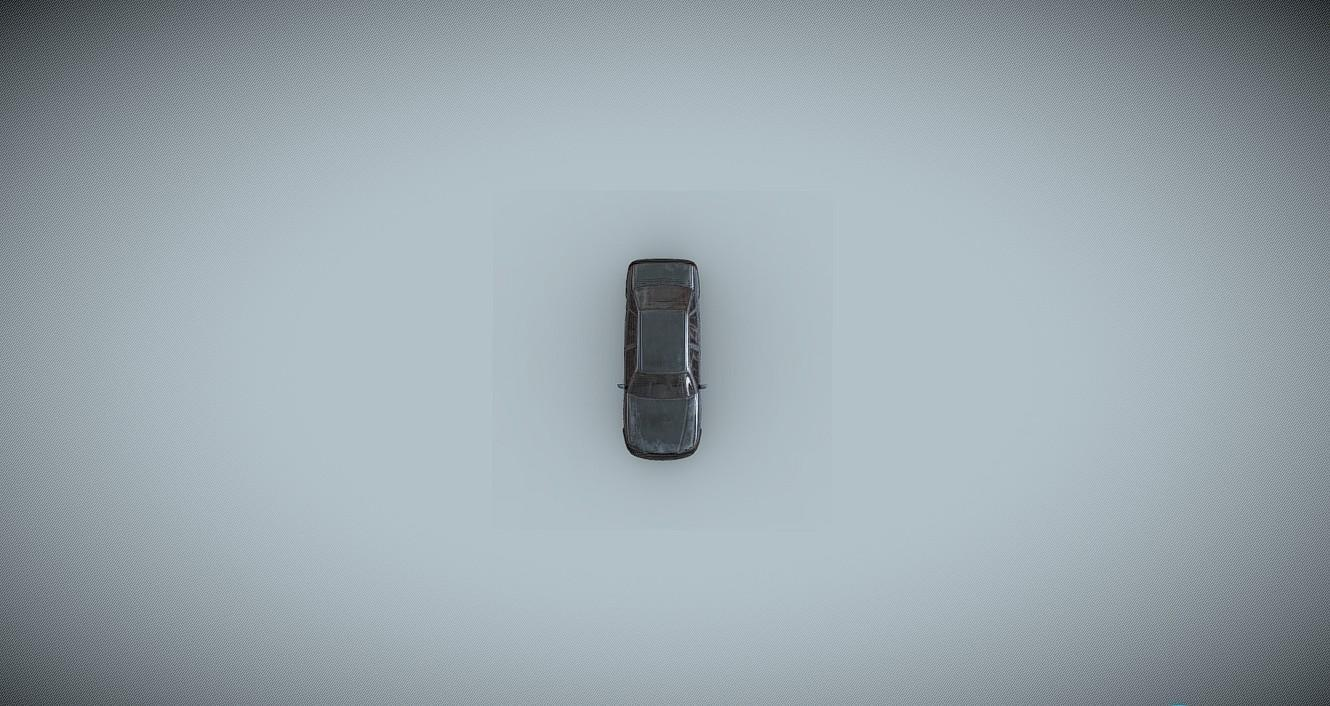Car: (616, 256, 705, 461)
